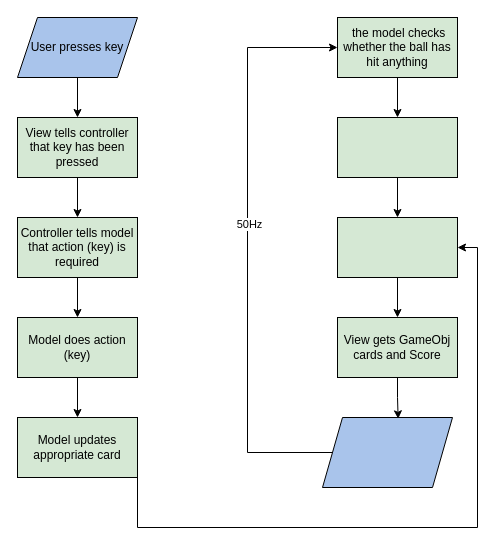
Image size: 503x553. Some labels were removed from this diagram. Here are the shapes that lost their labels. From the top down, the centre of each, then its label:
At (x=397, y=147): "Model updates the GameObj Cards and the Score.".
At (x=397, y=247): "Model tells view something has changed.".
At (x=387, y=452): "View completely redraws the screen".
